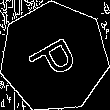P_NE: (24, 29, 85, 85)
